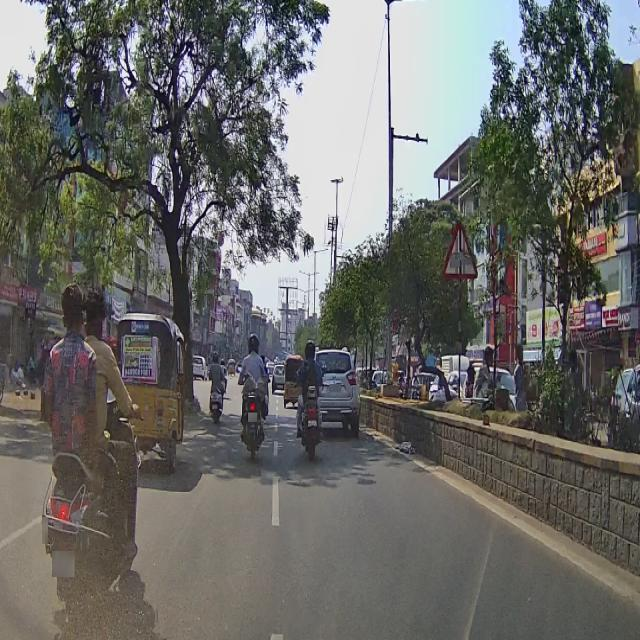auto ahead at: (123, 310, 189, 466)
motorcycle ahead at: (43, 467, 149, 611)
